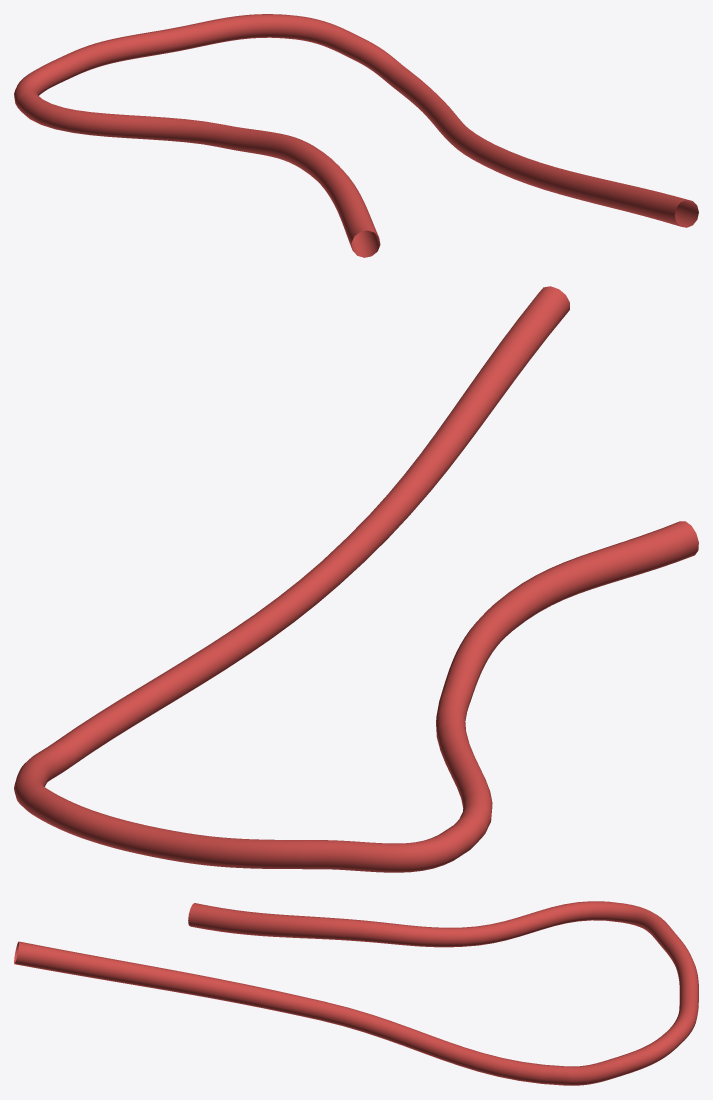
The picture shows the model from 3 angles, top to bottom: view 1: azimuth 30°, elevation 25°; view 2: azimuth 150°, elevation 25°; view 3: azimuth 270°, elevation 25°; orthographic projection. The views are drawn at different scales.
Visible parts, largest first — view 1: 左侧掌浅弓; view 2: 左侧掌浅弓; view 3: 左侧掌浅弓.
Part boxes in pixels (x1,y1,x2,y2): 左侧掌浅弓: [14, 14, 698, 257]; 左侧掌浅弓: [14, 286, 698, 872]; 左侧掌浅弓: [14, 901, 698, 1085].
Bounding box in the file's own units: 0.0519 × 0.0204 × 0.1043.
